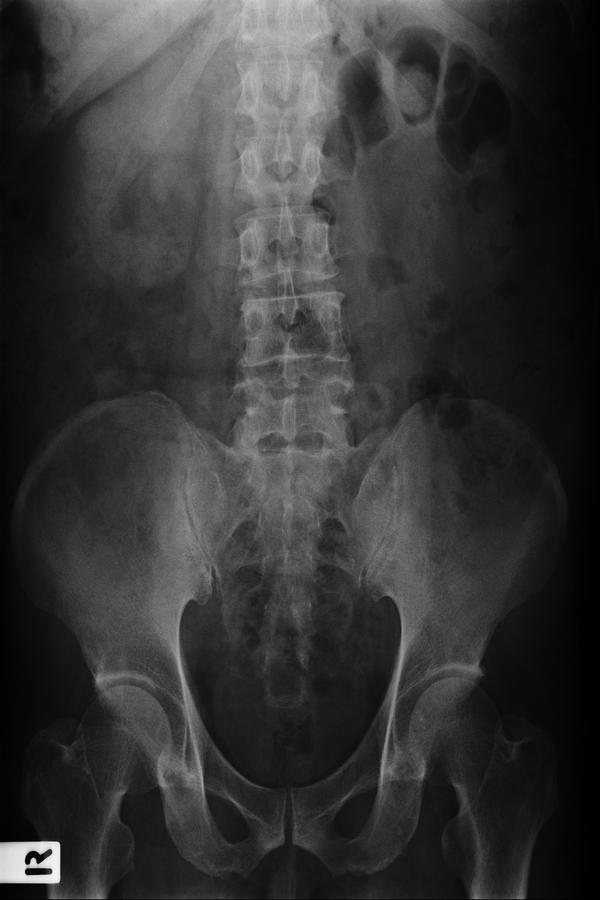lumbar scoliosis: (225, 128, 360, 465)
